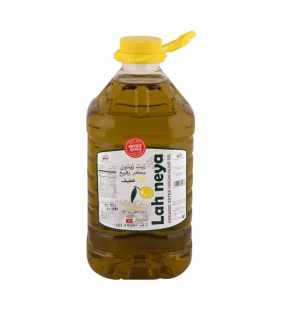LAHNEYA: (76, 20, 204, 284)
